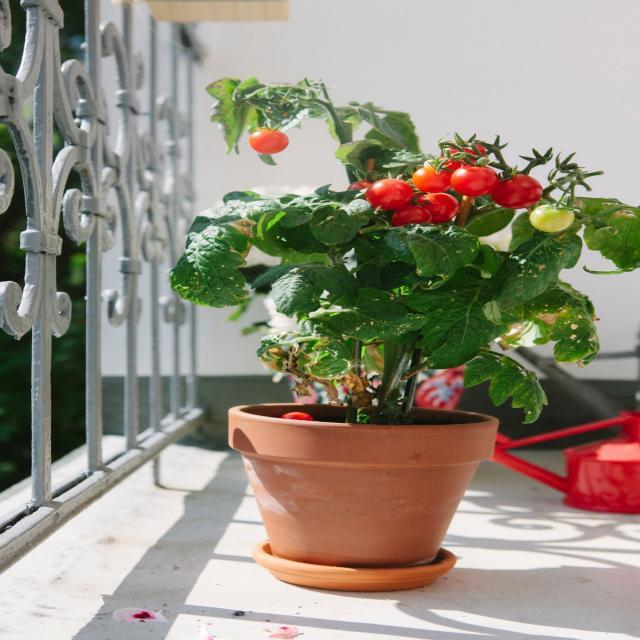tomato: (169, 81, 640, 426)
